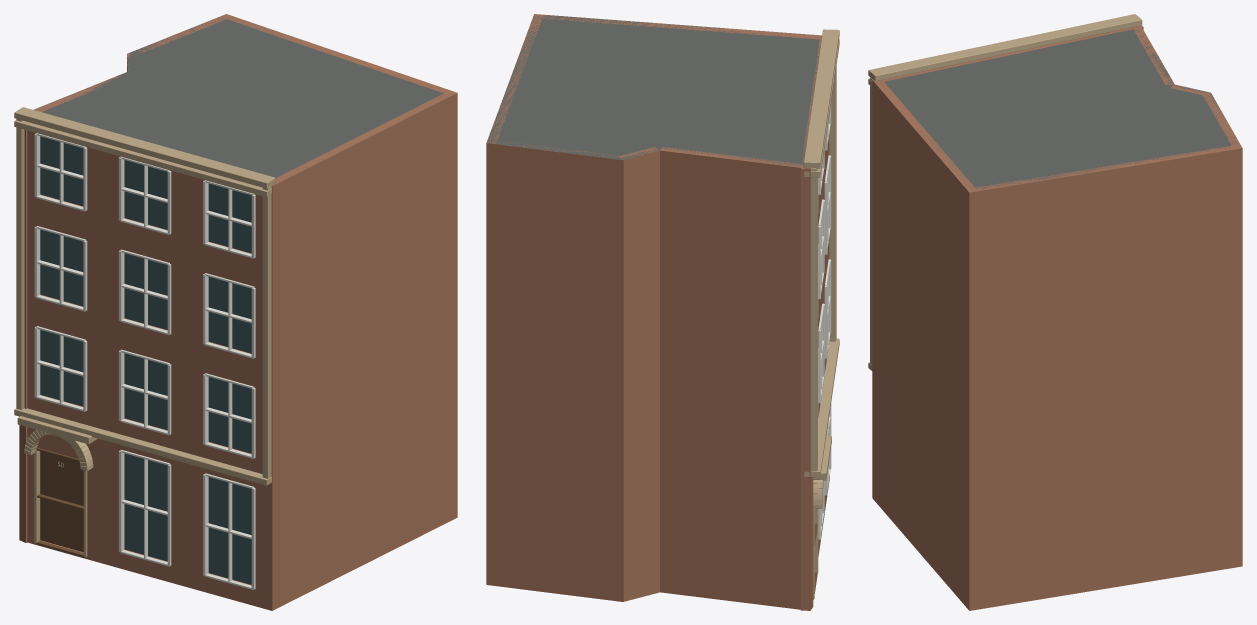
The model's file is 50l-exterior-56d67271c32a.glb.
3 views of the same model, side by side, from view 1: azimuth 30°, elevation 25°; view 2: azimuth 150°, elevation 25°; view 3: azimuth 270°, elevation 25° (orthographic). The views are drawn at different scales.
Visible parts, largest first — view 1: 50L.001; view 2: 50L.001; view 3: 50L.001.
Boxes of the visible parts, x1,y1,x2,y2 form: 50L.001: (14,14,457,610); 50L.001: (486,14,839,610); 50L.001: (868,14,1242,610).
Size of the model in its own units: 10.92 by 12.48 by 9.97.
